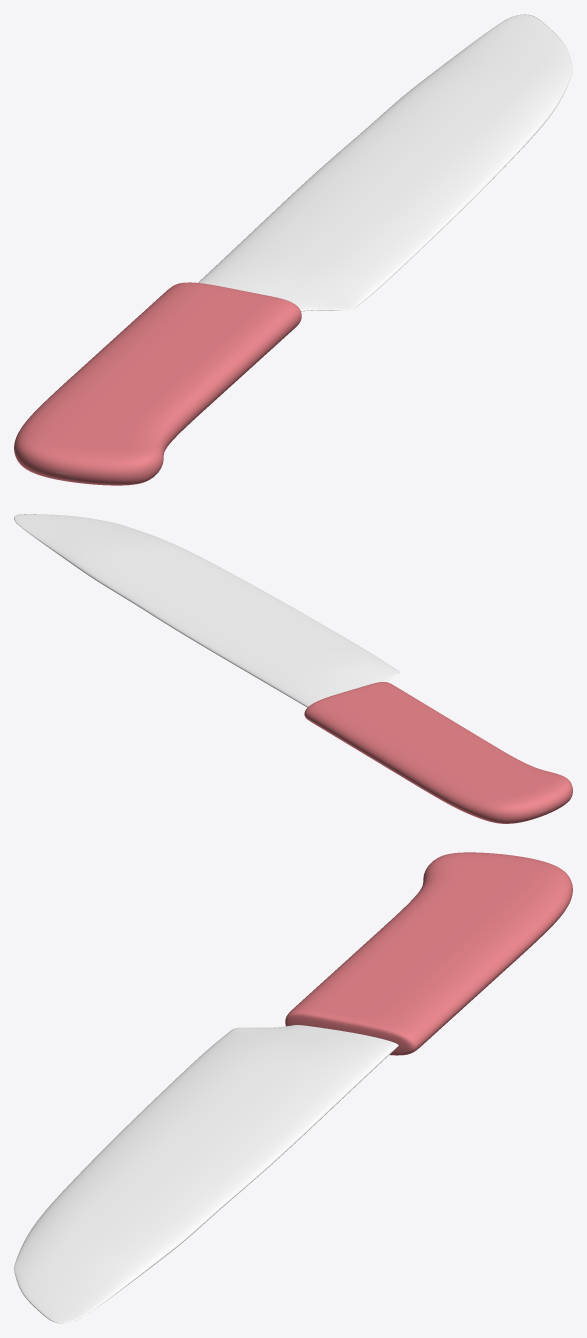
The model's file is Knife.fbx.
3 renders of one model, top to bottom at view 1: azimuth 90°, elevation 25°; view 2: azimuth 150°, elevation 25°; view 3: azimuth 270°, elevation 25°, orthographic. The views are drawn at different scales.
Visible parts, largest first — view 1: SM_Knife; view 2: SM_Knife; view 3: SM_Knife.
Boxes of the visible parts, box(x1,y1,x2,y2) form: SM_Knife: box(14, 14, 572, 485); SM_Knife: box(14, 514, 572, 823); SM_Knife: box(14, 852, 572, 1323).
Size of the model in its own units: 91.96 by 2.69 by 46.9.
